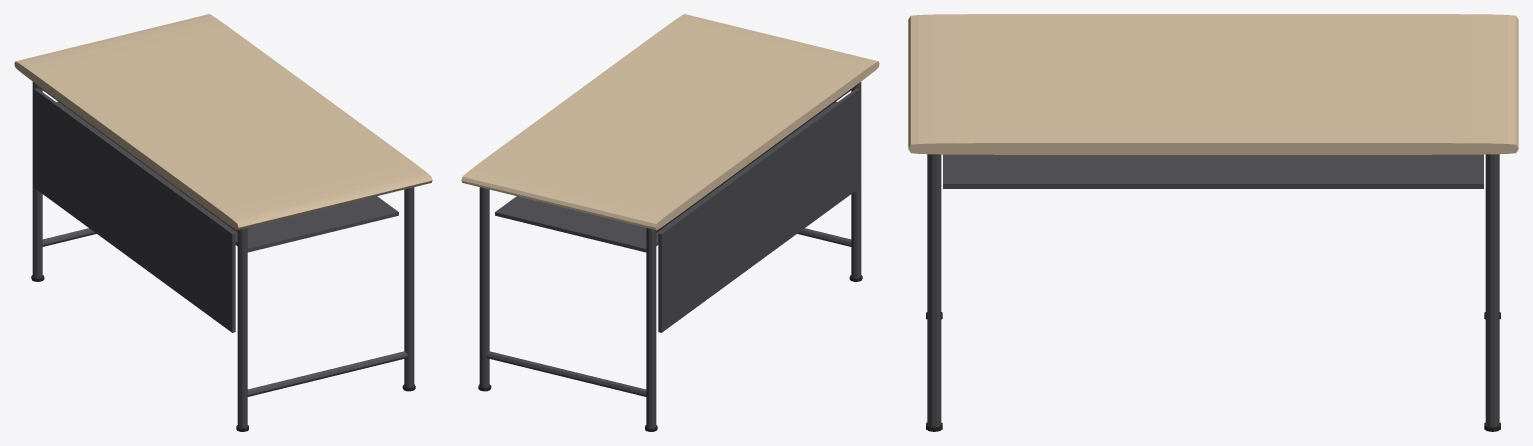
Rendered from SM_Prop_Desk.fbx.
The picture shows the model from 3 angles, left to right: view 1: azimuth 30°, elevation 25°; view 2: azimuth 150°, elevation 25°; view 3: azimuth 270°, elevation 25°; orthographic projection. The views are drawn at different scales.
Parts seen in each view (by area): view 1: SM_Prop_Desk; view 2: SM_Prop_Desk; view 3: SM_Prop_Desk.
Part boxes in pixels (x1,y1,x2,y2): SM_Prop_Desk: (14,14,432,431); SM_Prop_Desk: (461,14,879,431); SM_Prop_Desk: (908,14,1518,431).
Bounding box in the file's own units: 1.4 × 0.7 × 0.745.
